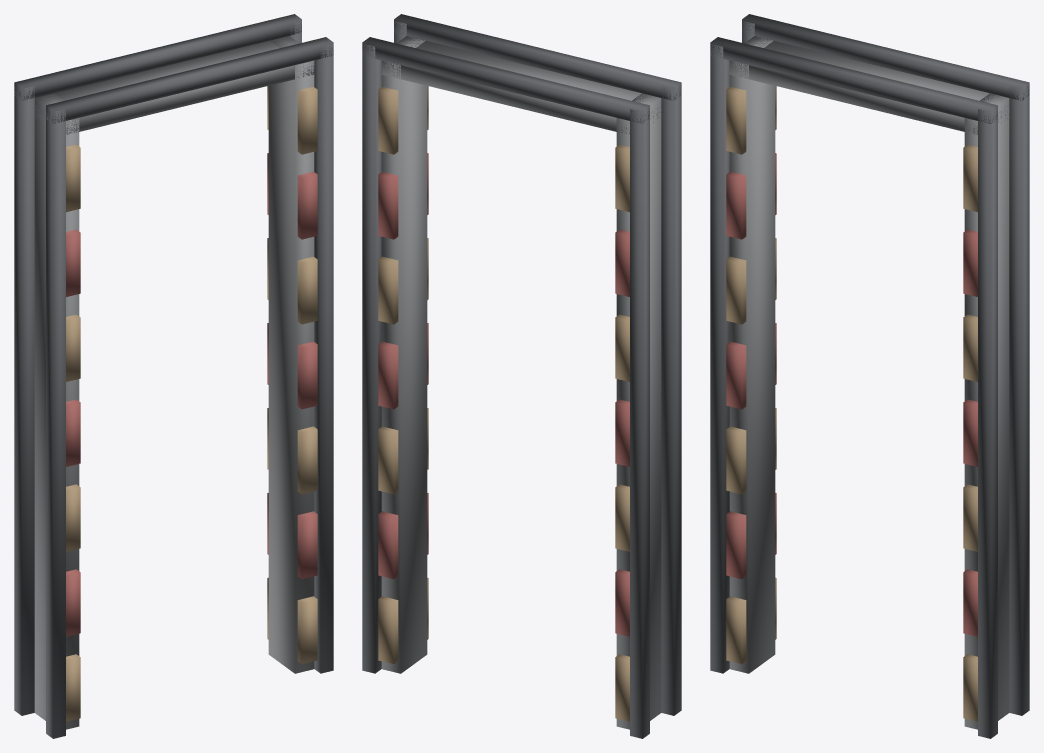
The model's file is doorway_brick_return_w76_h200_d16.glb.
The picture shows the model from 3 angles, left to right: view 1: azimuth 30°, elevation 25°; view 2: azimuth 150°, elevation 25°; view 3: azimuth 330°, elevation 25°; orthographic projection.
Visible parts, largest first — view 1: world; view 2: world; view 3: world.
Boxes of the visible parts, bbox=[...] form: world: bbox=[14, 14, 333, 738]; world: bbox=[362, 14, 681, 738]; world: bbox=[710, 14, 1029, 738].
Bounding box in the file's own units: 0.9868 × 2.11 × 0.2365.
